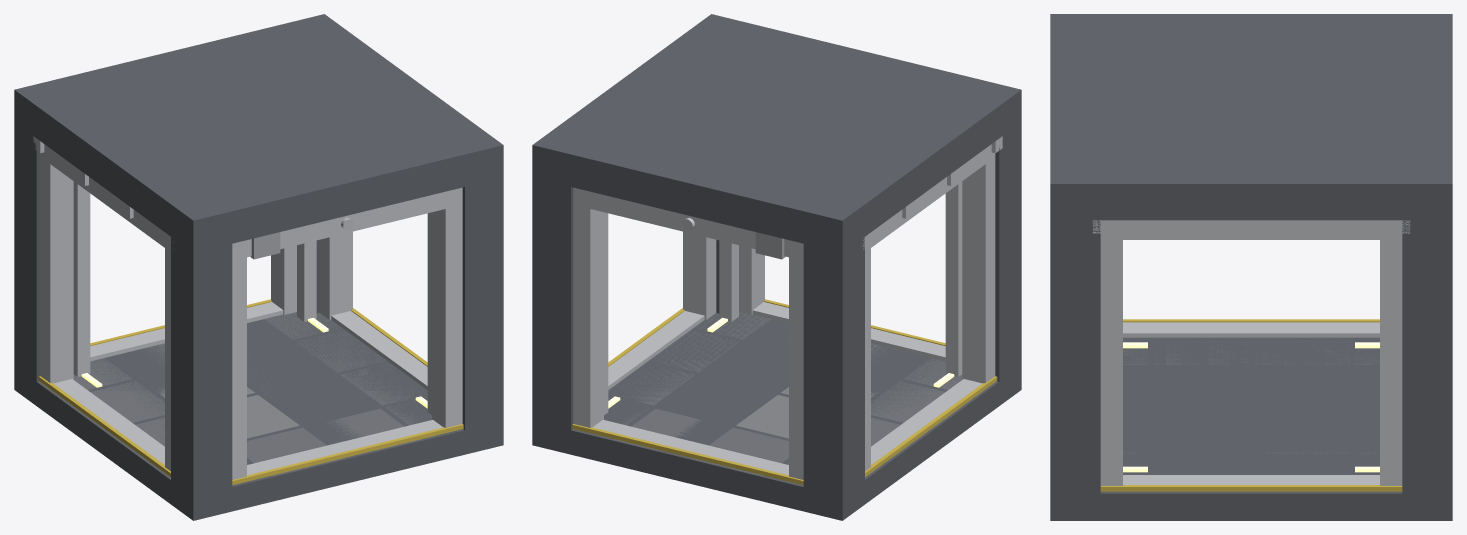
Rendered from corridor_cross.glb.
3 views of the same model, side by side, from view 1: azimuth 30°, elevation 25°; view 2: azimuth 150°, elevation 25°; view 3: azimuth 270°, elevation 25° (orthographic). The views are drawn at different scales.
Visible parts, largest first — view 1: corridor_cross; view 2: corridor_cross; view 3: corridor_cross.
Part boxes in pixels (x1,y1,x2,y2): corridor_cross: (14,14,503,520); corridor_cross: (532,14,1021,520); corridor_cross: (1050,14,1452,520).
Bounding box in the file's own units: 4 × 3.7 × 4.
